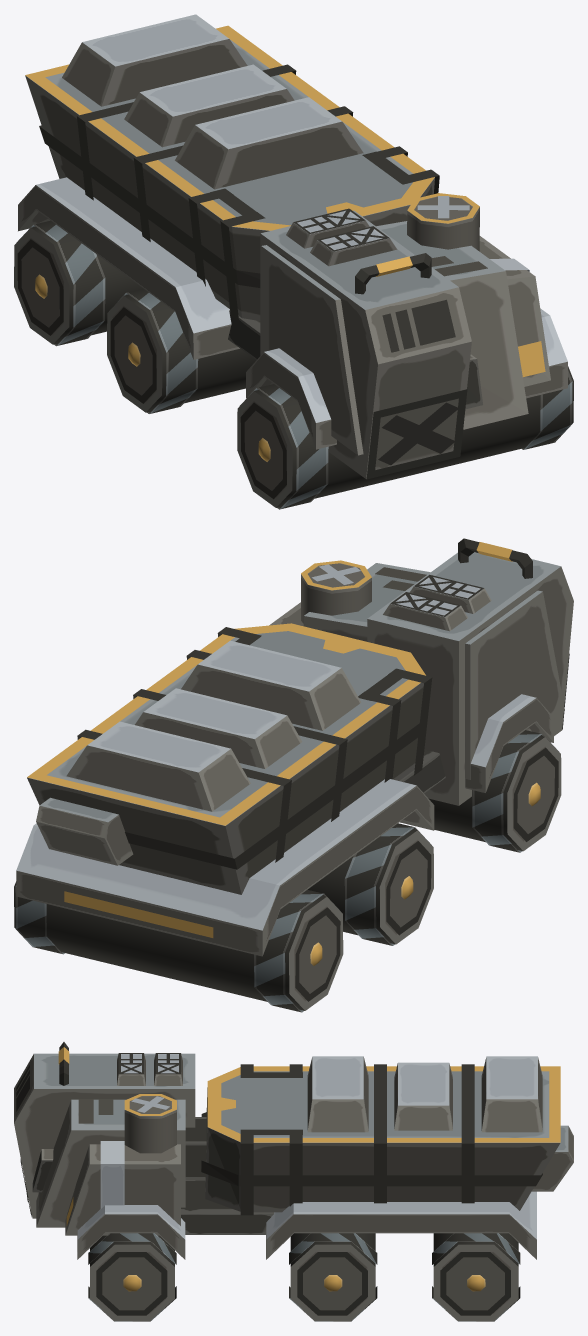
Rendered from truck3.FBX.
3 views of the same model, one above another, from view 1: azimuth 30°, elevation 25°; view 2: azimuth 150°, elevation 25°; view 3: azimuth 270°, elevation 25° (orthographic). The views are drawn at different scales.
Visible parts, largest first — view 1: truck_ncl1_1, truck, box2, box1, tyre1, tyre3, truck0, tyre2; view 2: truck_ncl1_1, truck, box2, box1, tyre3, tyre2, truck0, tyre1; view 3: truck_ncl1_1, truck, box2, box1, truck0, tyre2, tyre3, tyre1.
Boxes of the visible parts, box(x1,y1,x2,y2) form: truck_ncl1_1: box(18, 25, 567, 479); truck: box(14, 226, 573, 507); box2: box(62, 14, 363, 189); box1: box(124, 64, 294, 147); tyre1: box(240, 370, 572, 509); tyre3: box(16, 220, 105, 346); truck0: box(407, 193, 479, 251); tyre2: box(110, 288, 198, 413); truck_ncl1_1: box(16, 538, 573, 956); truck: box(14, 736, 561, 1010); box2: box(66, 640, 361, 811); box1: box(135, 688, 302, 768); tyre3: box(15, 885, 340, 1012); tyre2: box(344, 823, 431, 945); truck0: box(301, 560, 371, 623); tyre1: box(472, 730, 558, 852); truck_ncl1_1: box(14, 1042, 573, 1259); truck: box(90, 1233, 518, 1321); box2: box(307, 1056, 542, 1132); box1: box(394, 1062, 452, 1130); truck0: box(124, 1094, 176, 1153); tyre2: box(289, 1233, 377, 1321); tyre3: box(432, 1233, 520, 1321); tyre1: box(88, 1233, 176, 1321).
Bounding box in the file's own units: 59.8 × 130 × 49.94.
